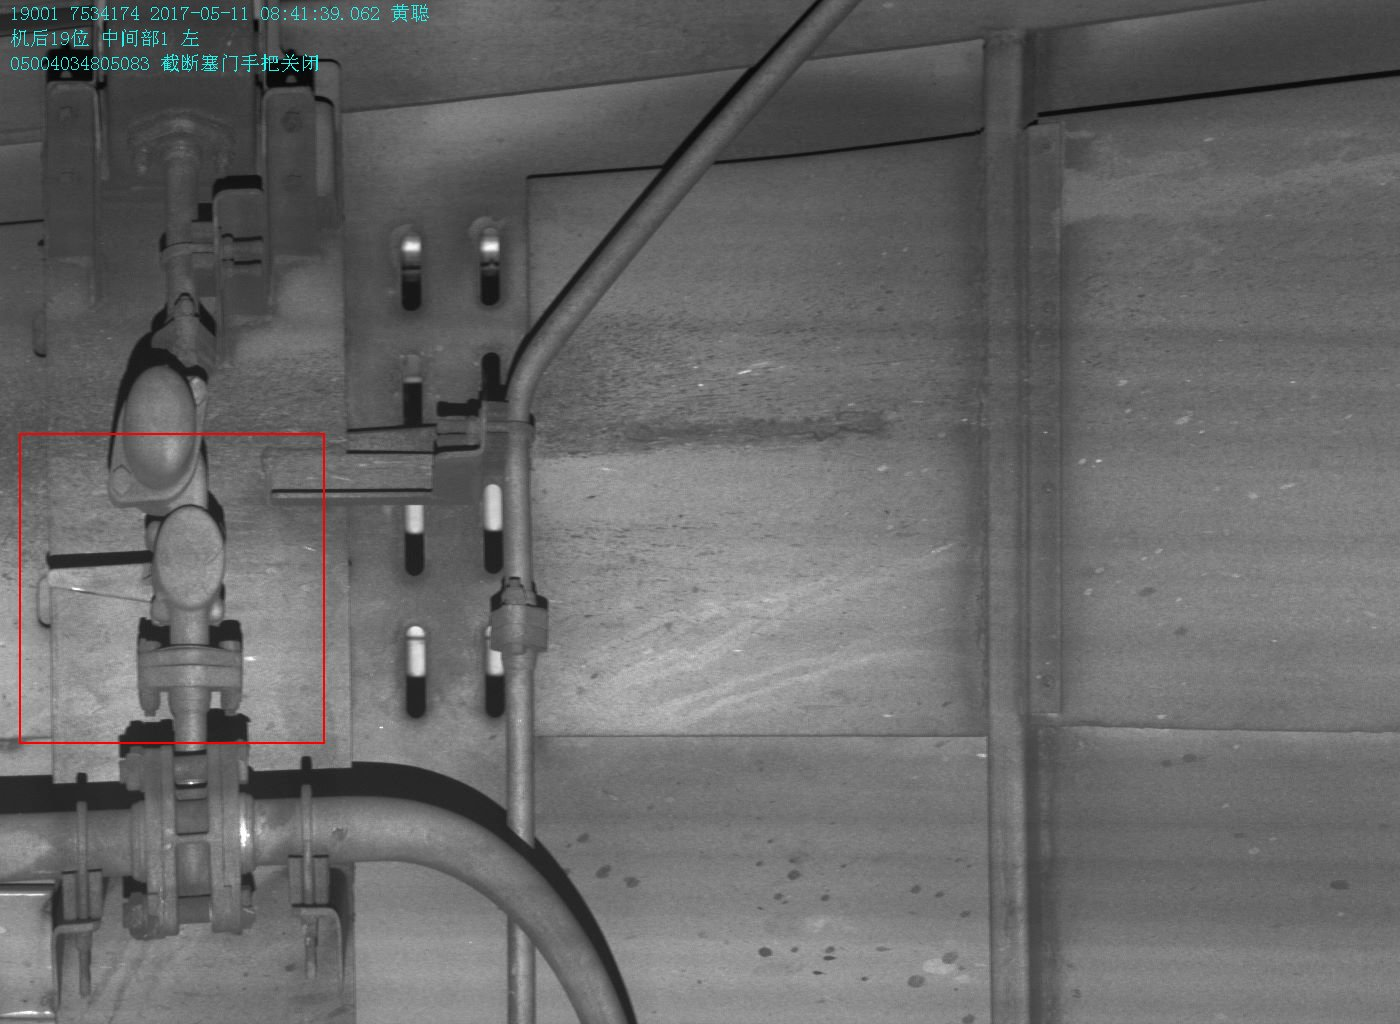truncated pIug door handIe: (48, 502, 239, 623)
